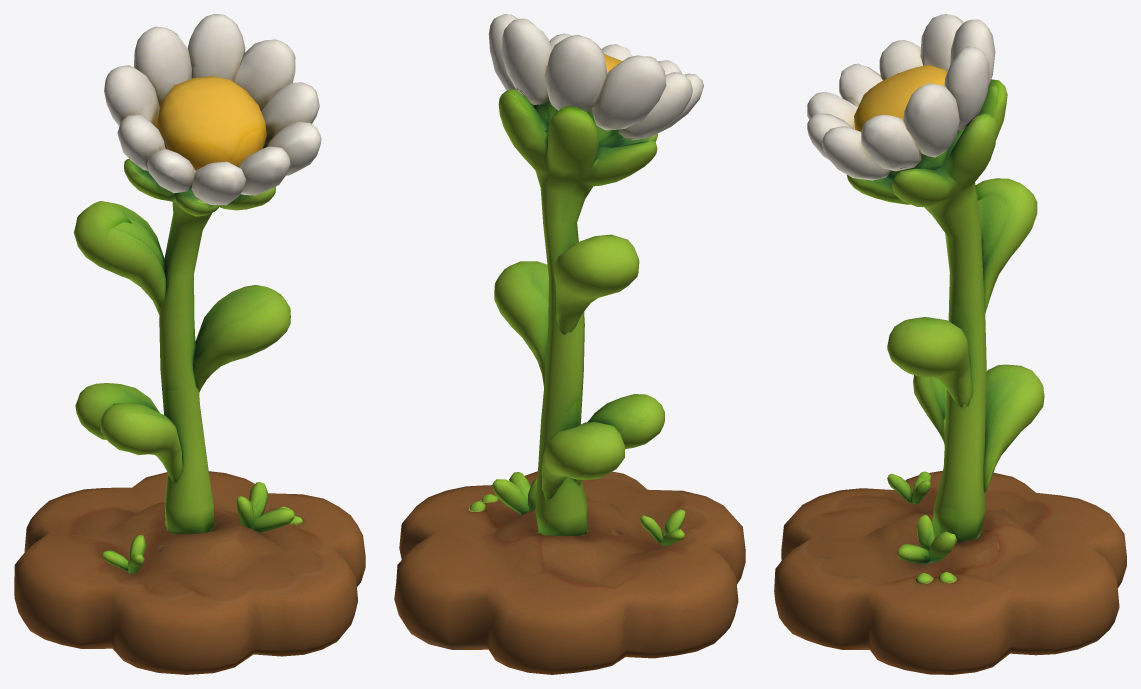
The model's file is daisy_s4.glb.
The picture shows the model from 3 angles, left to right: view 1: azimuth 30°, elevation 25°; view 2: azimuth 150°, elevation 25°; view 3: azimuth 270°, elevation 25°; orthographic projection.
Visible parts, largest first — view 1: tripo_node_8d3e5543-4035-47b3-a5c8-e25cf2d536c2; view 2: tripo_node_8d3e5543-4035-47b3-a5c8-e25cf2d536c2; view 3: tripo_node_8d3e5543-4035-47b3-a5c8-e25cf2d536c2.
Boxes of the visible parts, bbox=[...] form: tripo_node_8d3e5543-4035-47b3-a5c8-e25cf2d536c2: bbox=[14, 14, 365, 674]; tripo_node_8d3e5543-4035-47b3-a5c8-e25cf2d536c2: bbox=[394, 14, 745, 674]; tripo_node_8d3e5543-4035-47b3-a5c8-e25cf2d536c2: bbox=[774, 14, 1126, 674].
Size of the model in its own units: 0.584 by 0.998 by 0.5605.
1 material, 1 textured.
